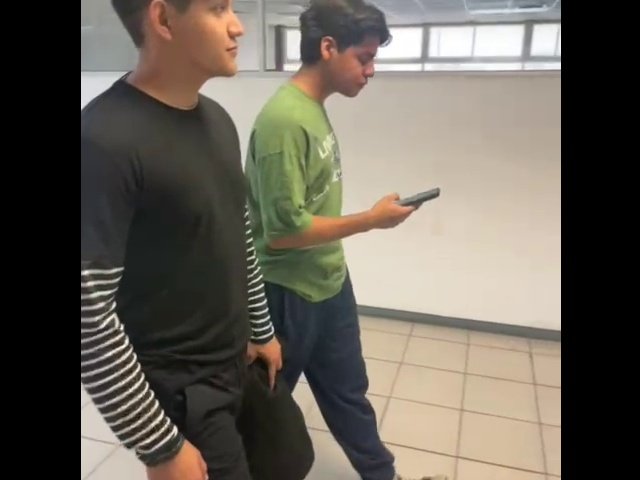mixto2: (392, 180, 443, 207)
